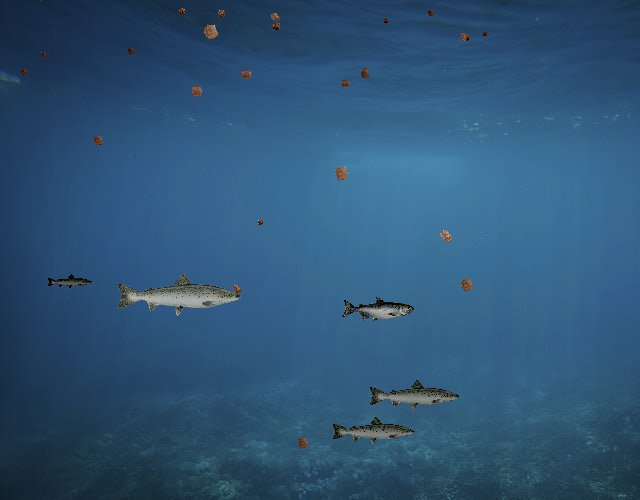Fish: (114, 271, 243, 317), (367, 379, 461, 413), (330, 415, 416, 446), (342, 297, 415, 323), (46, 273, 93, 290)
Pellet: (196, 16, 226, 46), (432, 223, 459, 250), (454, 272, 479, 298), (185, 79, 208, 102), (292, 432, 314, 454), (174, 4, 189, 19), (124, 44, 138, 58), (254, 217, 266, 229)
